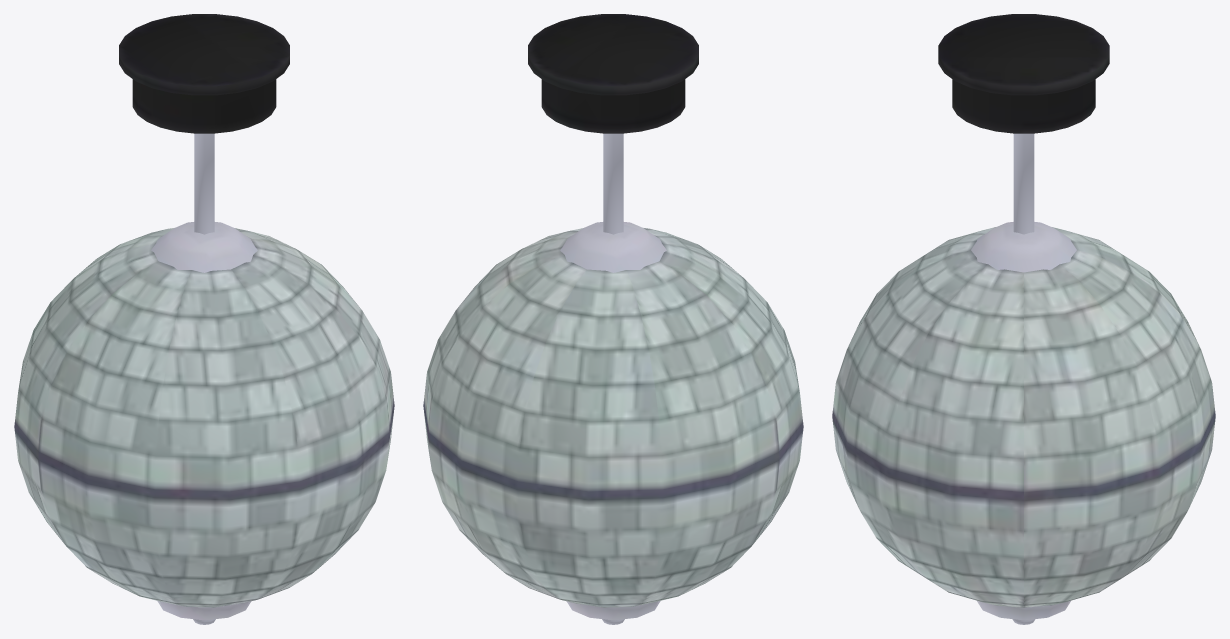
3 renders of one model, left to right at view 1: azimuth 30°, elevation 25°; view 2: azimuth 150°, elevation 25°; view 3: azimuth 270°, elevation 25°, orthographic.
Size of the model in its own units: 7.59 by 12.51 by 7.59.
Materials: 1 (1 with a texture image).
